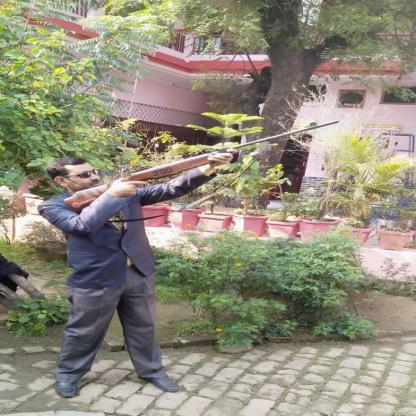rifle: (62, 120, 341, 214)
